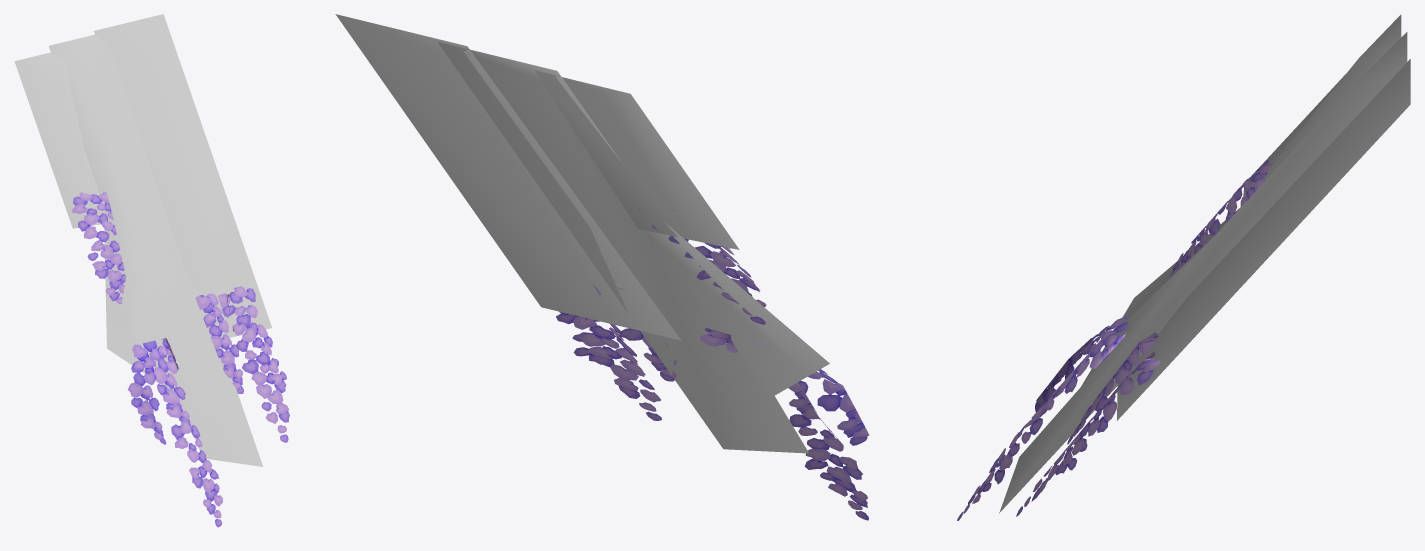
Rendered from SM_Env_Vines_Preset_Roof_Straight_05.fbx.
3 views of the same model, side by side, from view 1: azimuth 30°, elevation 25°; view 2: azimuth 150°, elevation 25°; view 3: azimuth 270°, elevation 25° (orthographic). The views are drawn at different scales.
Parts seen in each view (by area): view 1: SM_Env_Vines_Preset_Roof_Straight_05; view 2: SM_Env_Vines_Preset_Roof_Straight_05; view 3: SM_Env_Vines_Preset_Roof_Straight_05.
Part boxes in pixels (box(x1,y1,x2,y2)): SM_Env_Vines_Preset_Roof_Straight_05: box(14, 14, 289, 527); SM_Env_Vines_Preset_Roof_Straight_05: box(335, 14, 869, 520); SM_Env_Vines_Preset_Roof_Straight_05: box(957, 14, 1410, 520).
Size of the model in its own units: 111 by 242 by 203.
